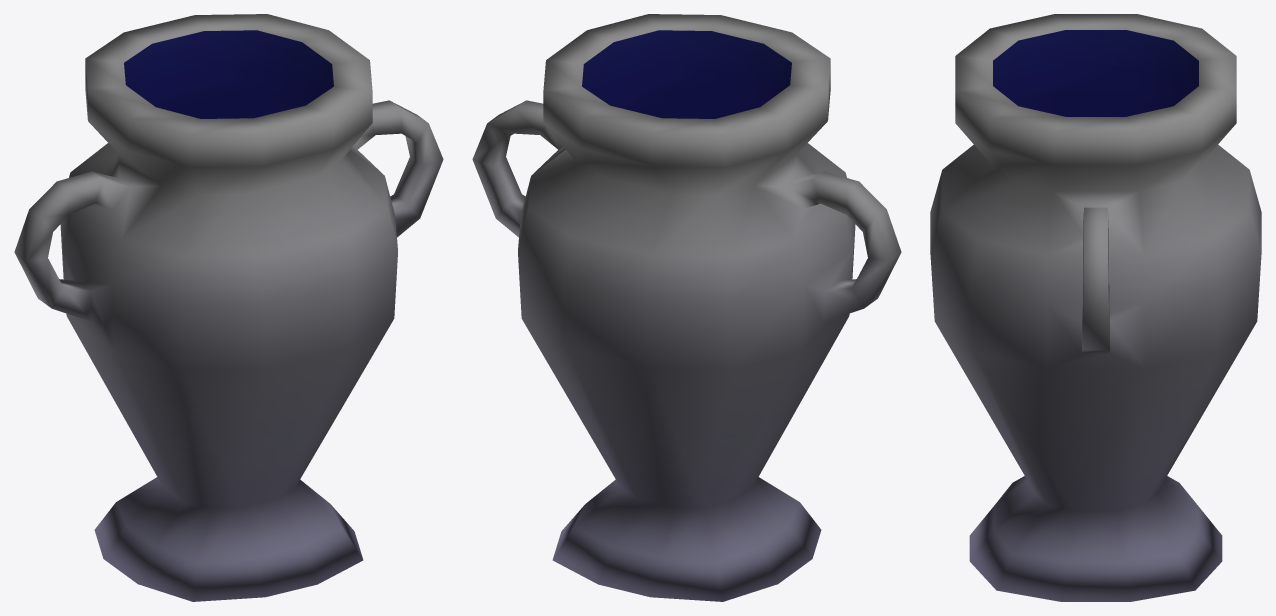
File: vase.fbx
The picture shows the model from 3 angles, left to right: view 1: azimuth 30°, elevation 25°; view 2: azimuth 150°, elevation 25°; view 3: azimuth 270°, elevation 25°; orthographic projection.
Parts seen in each view (by area): view 1: vase; view 2: vase; view 3: vase.
Part boxes in pixels (x1,y1,x2,y2): vase: [14, 14, 443, 601]; vase: [472, 14, 901, 601]; vase: [930, 14, 1261, 601].
Size of the model in its own units: 9.72 by 10.48 by 6.62.
